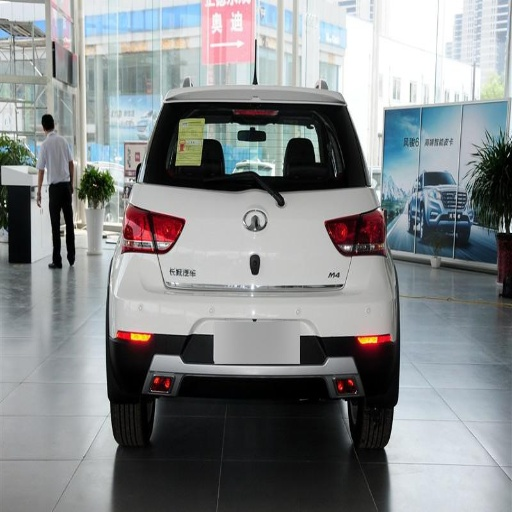back_bumper: (105, 253, 398, 398)
trunk: (131, 186, 371, 315)
